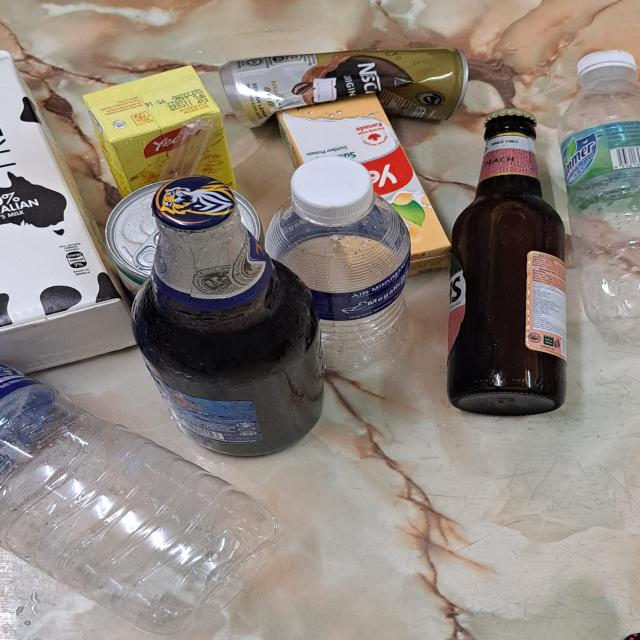can: (216, 49, 467, 128), (103, 180, 264, 299)
drink carton: (0, 49, 138, 376), (280, 92, 453, 273), (81, 66, 241, 199)
glass bottle: (132, 175, 329, 456), (449, 109, 566, 416)
plastic bottle: (0, 358, 284, 638), (267, 199, 411, 371), (559, 73, 640, 343)
plastic bottle cap: (288, 156, 376, 224), (577, 49, 639, 80)
pop tab: (134, 228, 165, 270)
